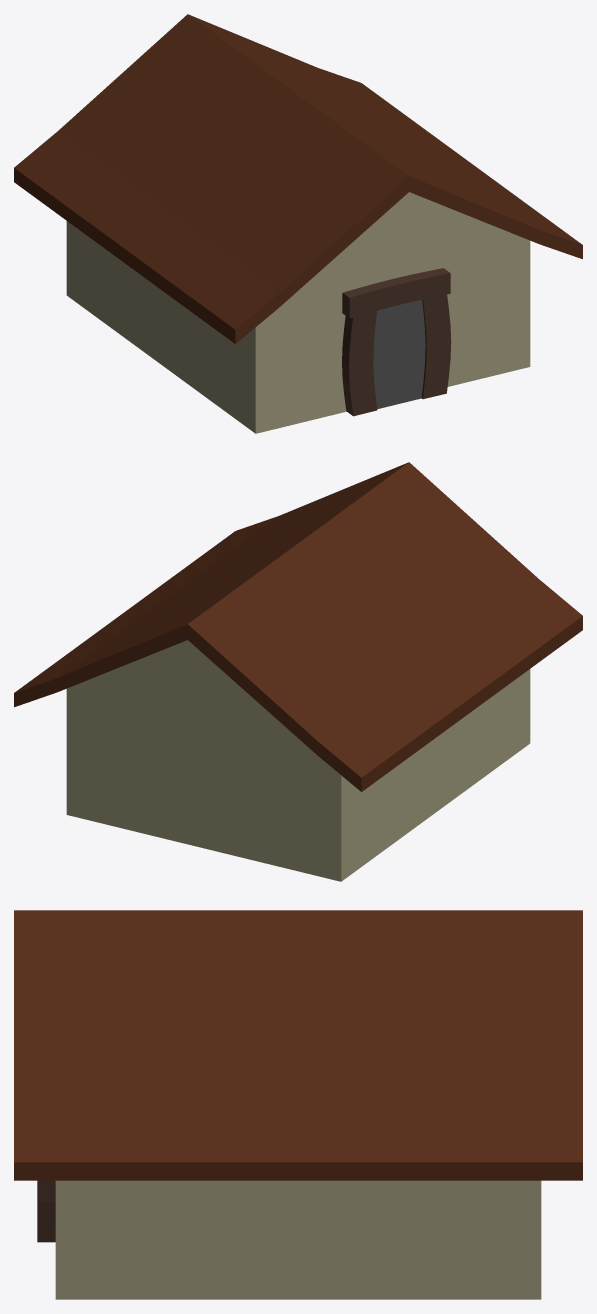
Rendered from home.fbx.
3 renders of one model, top to bottom at view 1: azimuth 30°, elevation 25°; view 2: azimuth 150°, elevation 25°; view 3: azimuth 270°, elevation 25°, orthographic. The views are drawn at different scales.
Parts seen in each view (by area): view 1: Cube.001, Cube, Cube.002, Cube.003; view 2: Cube.001, Cube; view 3: Cube.001, Cube, Cube.002.
Part boxes in pixels (left/top/right/bottom): Cube.001: left=14, top=14, right=582, bottom=343; Cube: left=66, top=192, right=530, bottom=433; Cube.002: left=342, top=268, right=451, bottom=416; Cube.003: left=373, top=299, right=425, bottom=409; Cube.001: left=14, top=462, right=582, bottom=791; Cube: left=66, top=640, right=530, bottom=881; Cube.001: left=14, top=910, right=582, bottom=1180; Cube: left=55, top=1180, right=541, bottom=1299; Cube.002: left=37, top=1180, right=55, bottom=1242.
Size of the model in its own units: 308 by 200 by 340.
